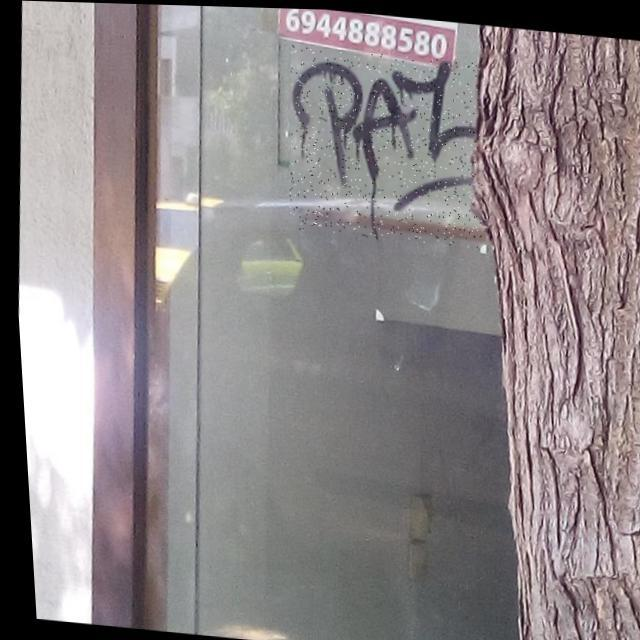-: (278, 42, 491, 246)
